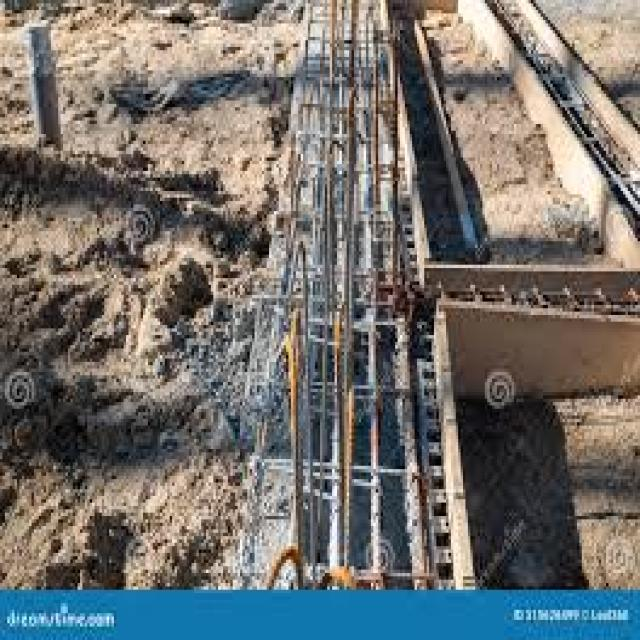Foundation: (239, 34, 631, 592)
